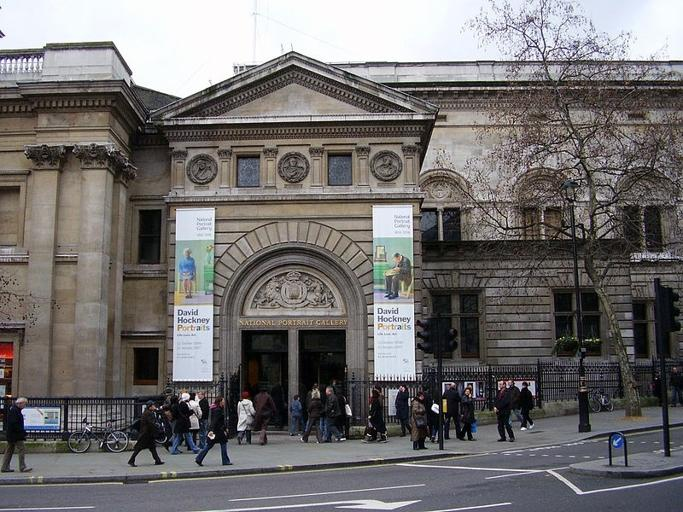non-vehicle: (66, 414, 128, 453), (151, 408, 172, 445), (586, 386, 614, 413)
